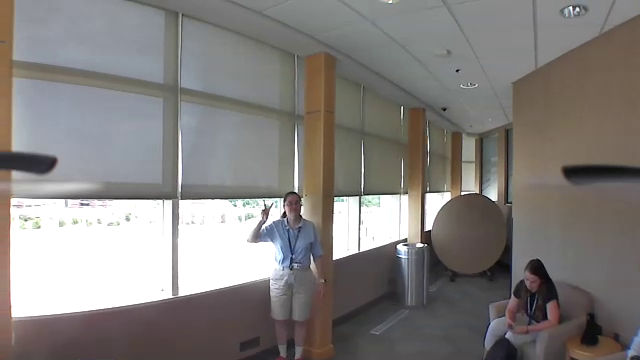peace: (257, 195, 275, 226)
